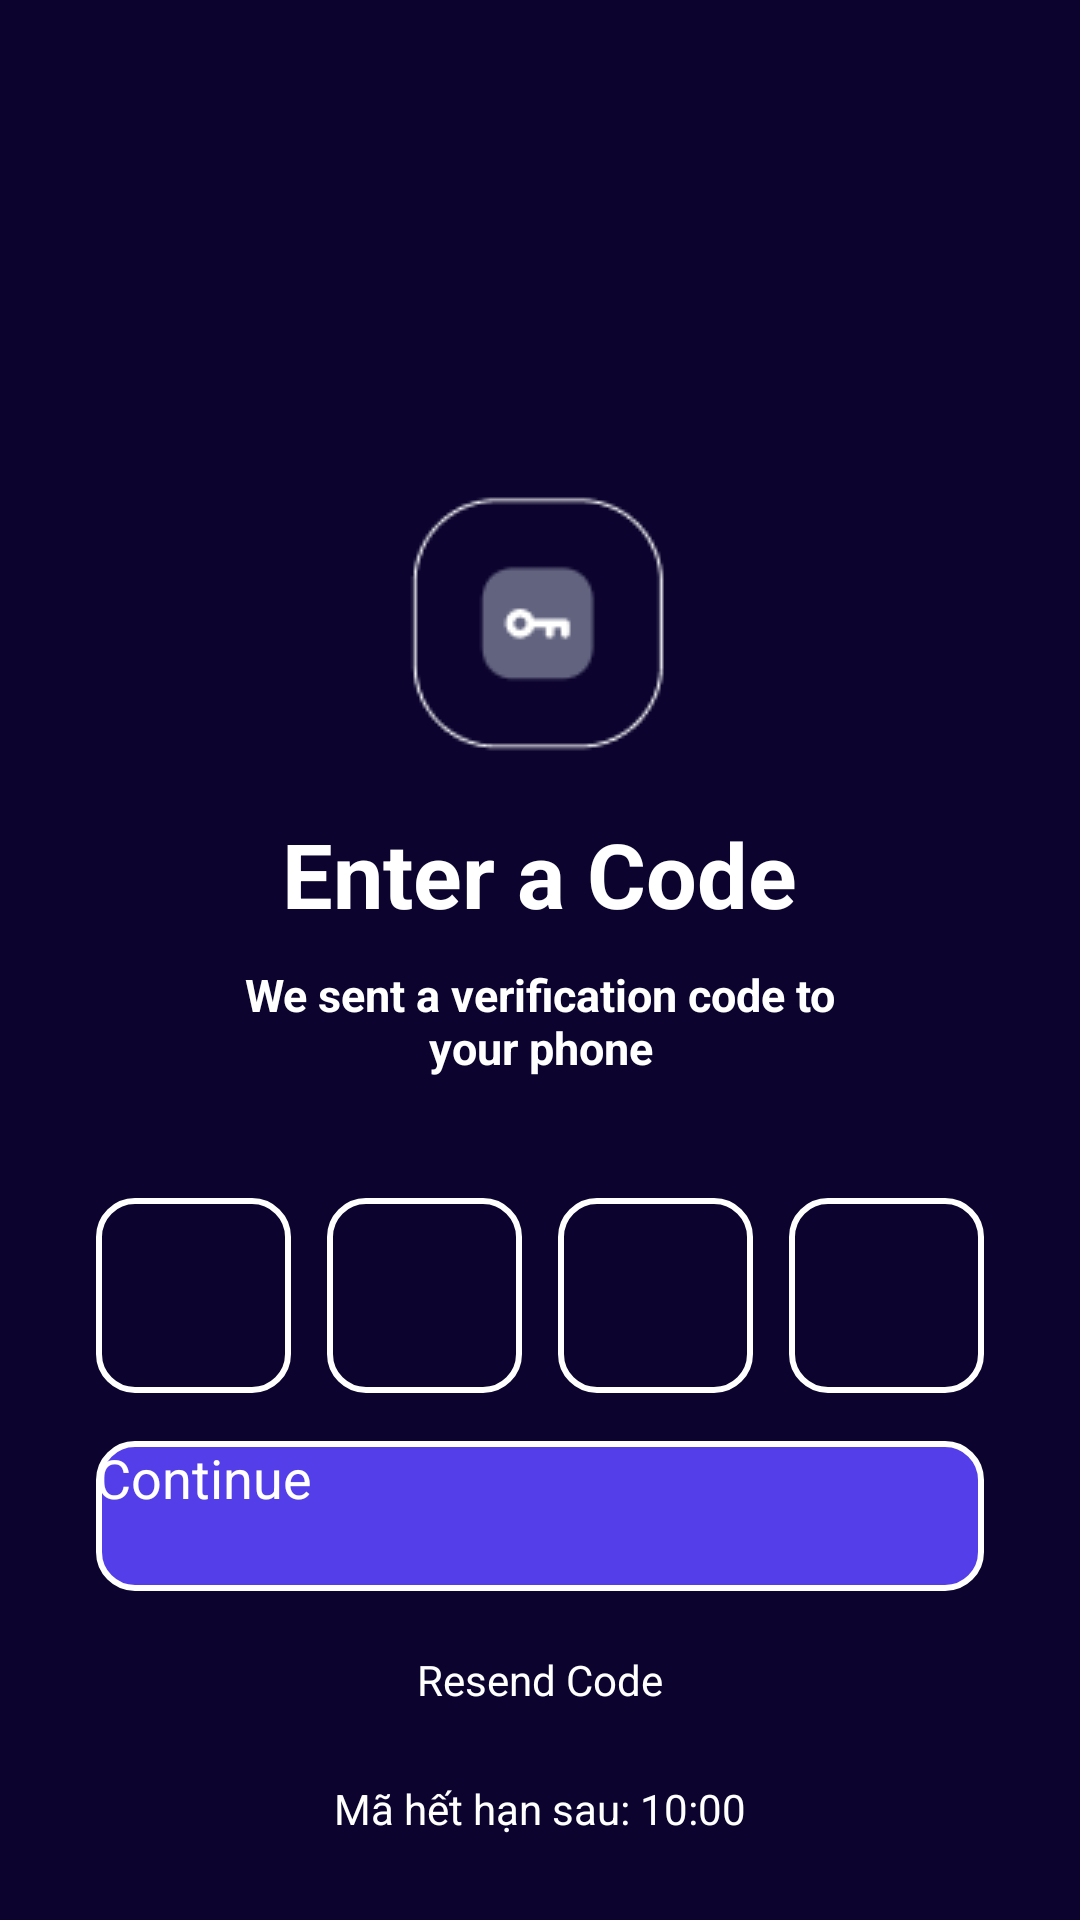

Screen size 1080px x 1920px. Icon name, then its box in pixels as {"x1": x1, "y1": y1, "x2": x2, "y2": y2}:
key: {"x1": 412, "y1": 497, "x2": 664, "y2": 750}
